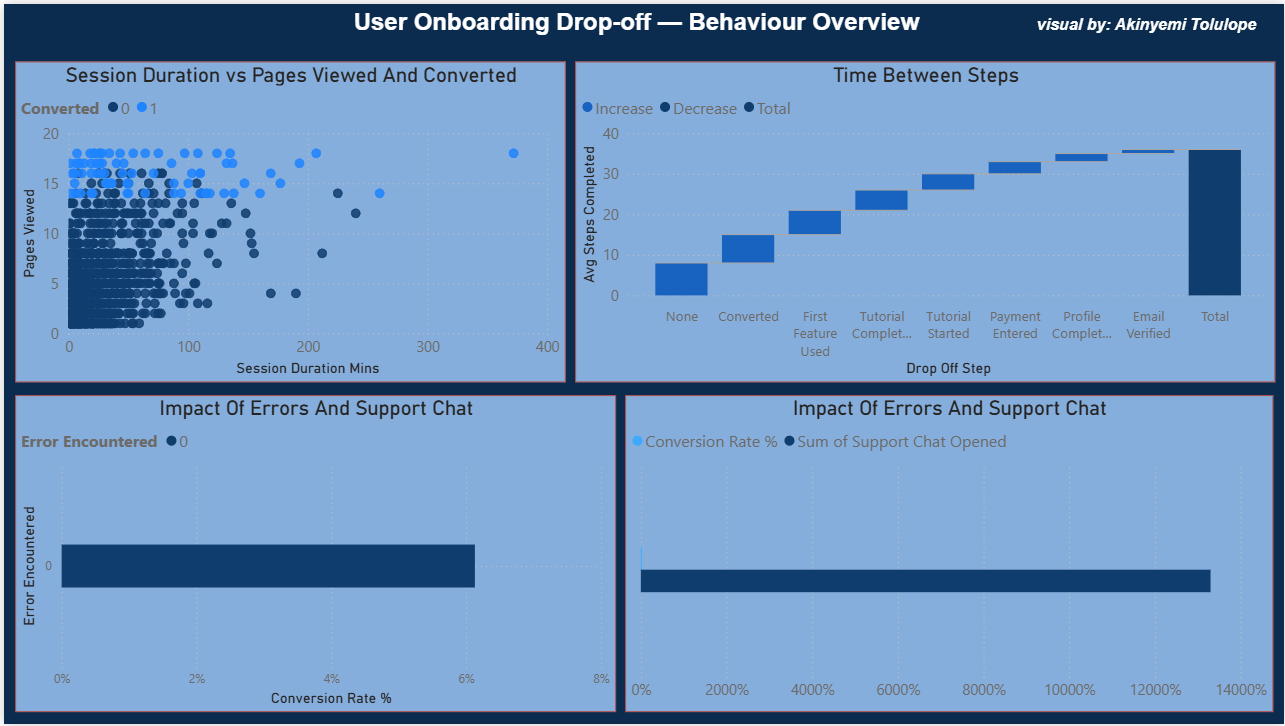

Layout of this report page (visuals, bound fields, positions):
{"tool":"powerbi","page":{"name":"BEHAVIOUR","canvas":[1280,720],"ordinal":3},"visuals":[{"type":"scatterChart","title":" Session Duration vs Pages Viewed And Converted","fields":{"X":["Sum(Raw Data.Session Duration Mins)"],"Y":["Sum(Raw Data.Pages Viewed)"],"Category":["Raw Data.User Id"],"Series":["Raw Data.Converted"]},"box":[11,57.6,550.3,321.1],"z":0},{"type":"clusteredBarChart","title":"Impact Of Errors And Support Chat","fields":{"Category":["Raw Data.Error Encountered"],"Y":["Raw Data.Conversion Rate %"],"Series":["Raw Data.Error Encountered"]},"box":[11,391.1,601,317],"z":1000},{"type":"clusteredBarChart","title":"Impact Of Errors And Support Chat","fields":{"Y":["Raw Data.Conversion Rate %","Sum(Raw Data.Support Chat Opened)"]},"box":[621.6,391.1,647.7,317],"z":2000},{"type":"waterfallChart","title":"Time Between Steps","fields":{"Category":["Raw Data.Drop Off Step"],"Y":["Raw Data.Avg Steps Completed"]},"box":[570.8,57.6,699.8,321.1],"z":3000},{"type":"textbox","box":[11.4,0,1257.1,48.6],"z":3001}]}

Visuals, with their boxes in screenshot pixels (x1, y1, x2, y2), scaled from the page's 1280x720 canvas onto the 1285x726 screenshot:
" Session Duration vs Pages Viewed And Converted" scatterChart: bbox=[11, 58, 563, 382]
"Impact Of Errors And Support Chat" clusteredBarChart: bbox=[11, 394, 614, 714]
"Impact Of Errors And Support Chat" clusteredBarChart: bbox=[624, 394, 1274, 714]
"Time Between Steps" waterfallChart: bbox=[573, 58, 1276, 382]
textbox: bbox=[11, 0, 1273, 49]
